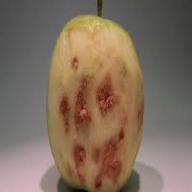apple: (44, 14, 146, 191)
